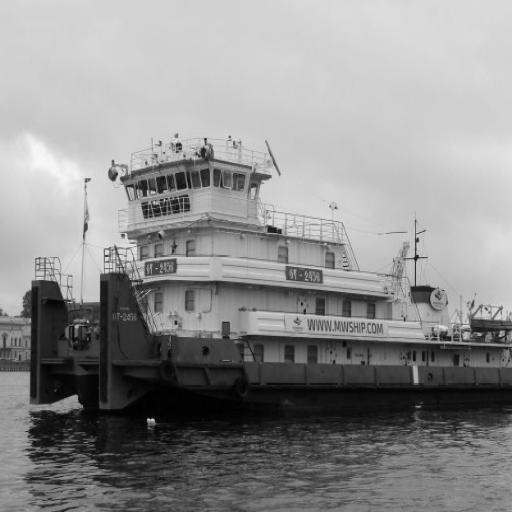tugboat: (28, 132, 512, 431)
